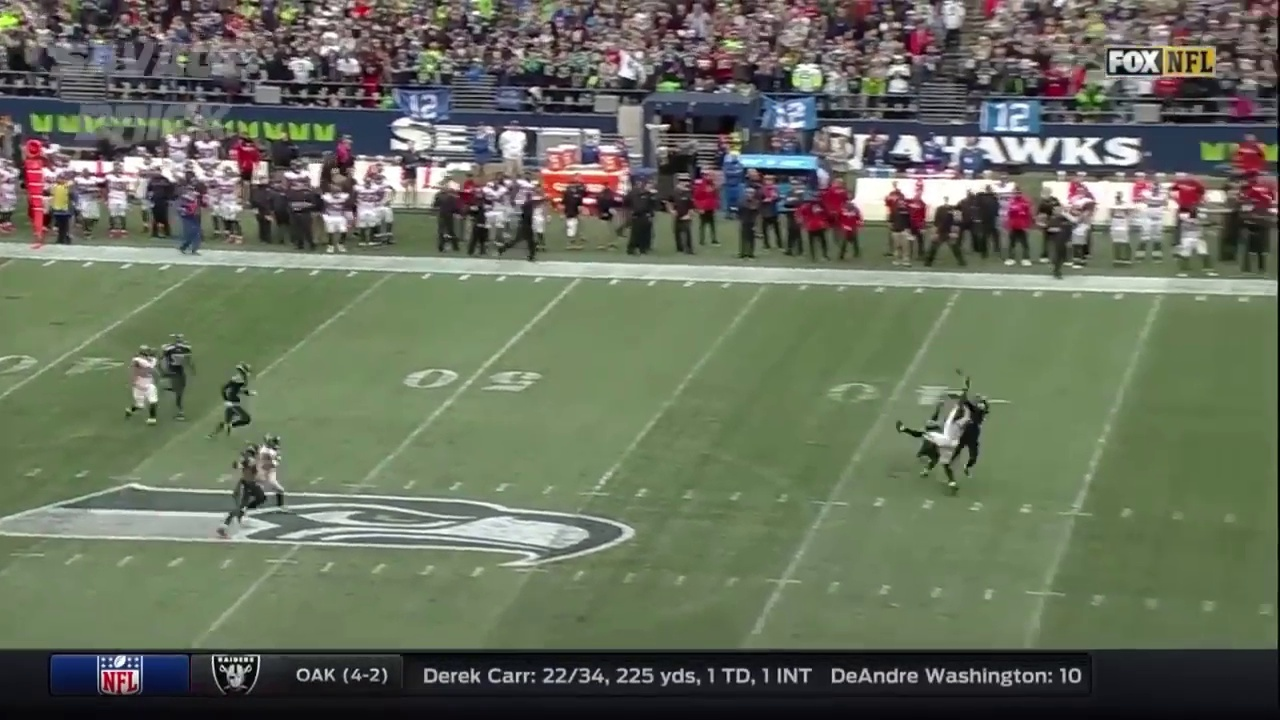interference: (935, 387, 973, 459)
